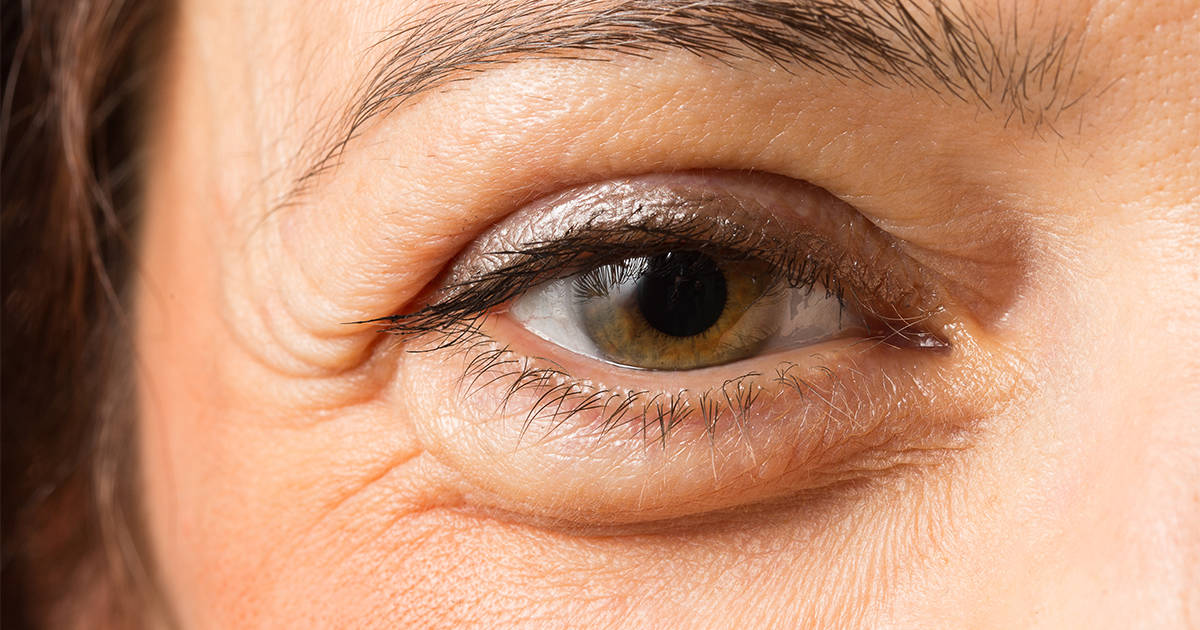PUFFY_EYES: (298, 143, 1077, 546)
